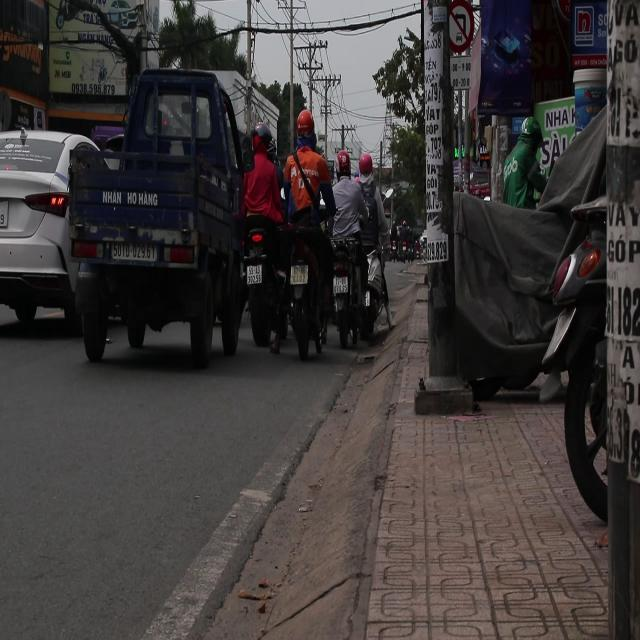car: (1, 126, 107, 336)
motorbike: (281, 200, 328, 376), (242, 215, 292, 355), (327, 232, 373, 339), (362, 232, 394, 314)
truck: (65, 70, 254, 362)
